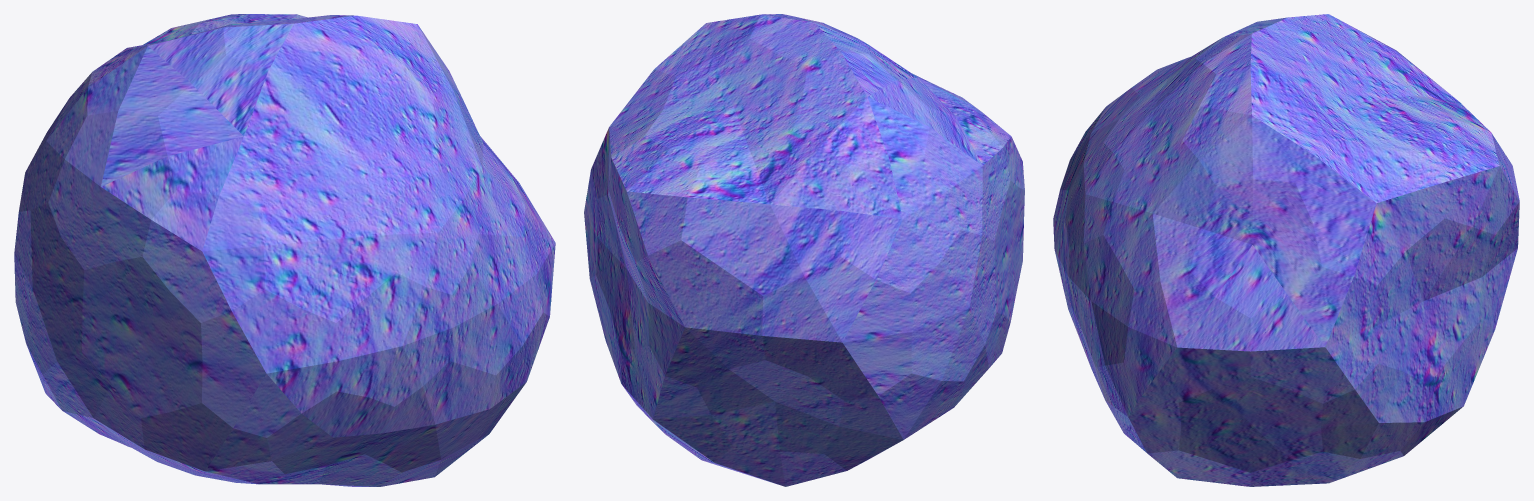
Rendered from mediumasteroid14_LOD3.fbx.
The picture shows the model from 3 angles, left to right: view 1: azimuth 30°, elevation 25°; view 2: azimuth 150°, elevation 25°; view 3: azimuth 270°, elevation 25°; orthographic projection. The views are drawn at different scales.
Parts seen in each view (by area): view 1: Icosphere; view 2: Icosphere; view 3: Icosphere.
Boxes of the visible parts, left/top/right/bottom form: Icosphere: left=14, top=14, right=555, bottom=486; Icosphere: left=584, top=14, right=1024, bottom=486; Icosphere: left=1053, top=14, right=1519, bottom=486.
Size of the model in its own units: 227 by 227 by 228.
